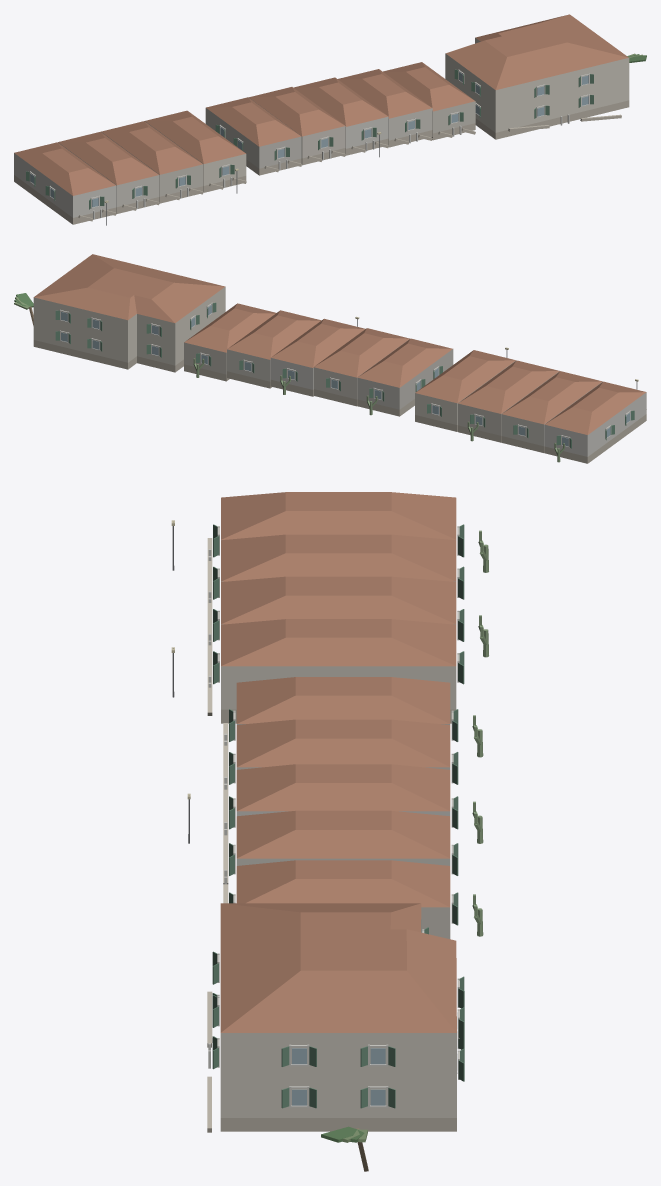
File: nw_cb_west.glb
3 renders of one model, top to bottom at view 1: azimuth 30°, elevation 25°; view 2: azimuth 150°, elevation 25°; view 3: azimuth 270°, elevation 25°, orthographic. The views are drawn at different scales.
Parts seen in each view (by area): view 1: nw_cb_west_lod0; view 2: nw_cb_west_lod0; view 3: nw_cb_west_lod0.
Part boxes in pixels (x1=…): nw_cb_west_lod0: x1=14, y1=14, x2=646, y2=225; nw_cb_west_lod0: x1=14, y1=254, x2=646, y2=463; nw_cb_west_lod0: x1=171, y1=492, x2=488, y2=1171.
Size of what is drawn, in the model's own units: 70.53 by 7.87 by 16.03.
